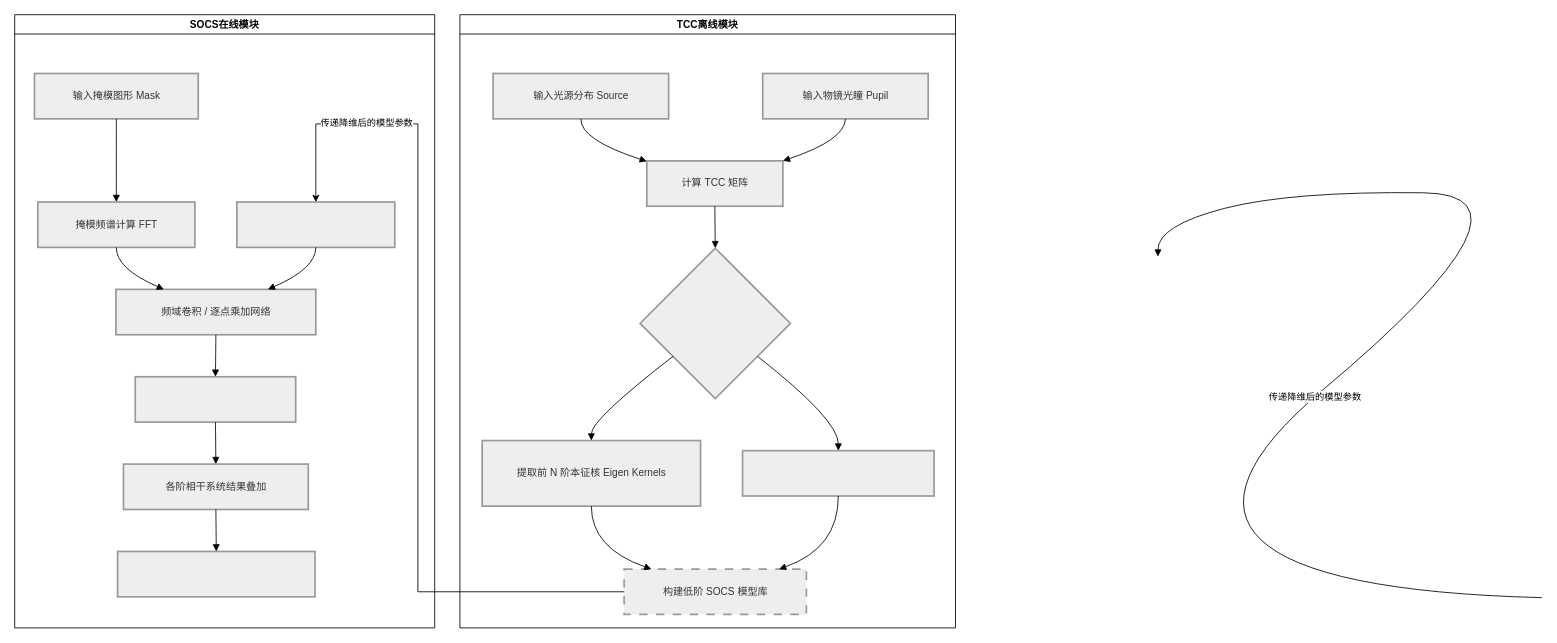
This 1557x643 diagram has some shape labels left out. Here are the shapes that lost their labels. From the top down, the centre of each, then its label:
the point at 315,224: 加载本征核与权重
the point at 715,323: 本征值分解 / SVD
the point at 215,399: 逆傅里叶变换 IFFT
the point at 837,472: 提取本征值 Eigenvalues
the point at 215,573: 输出空间像 Aerial Image
